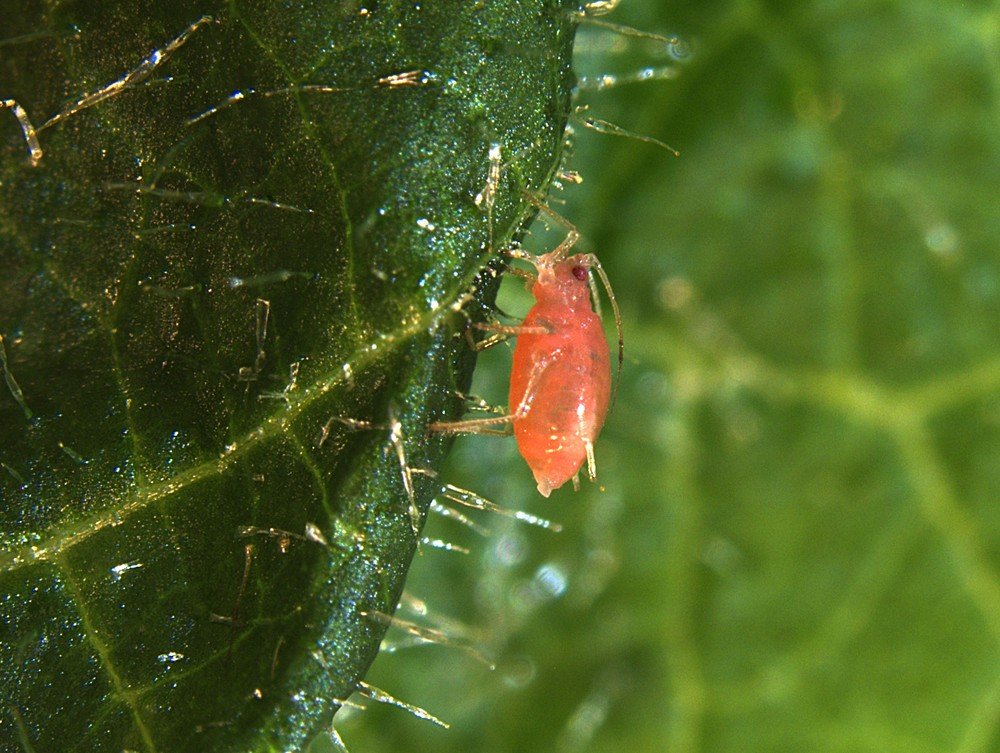Pulgon: (446, 195, 639, 530)
